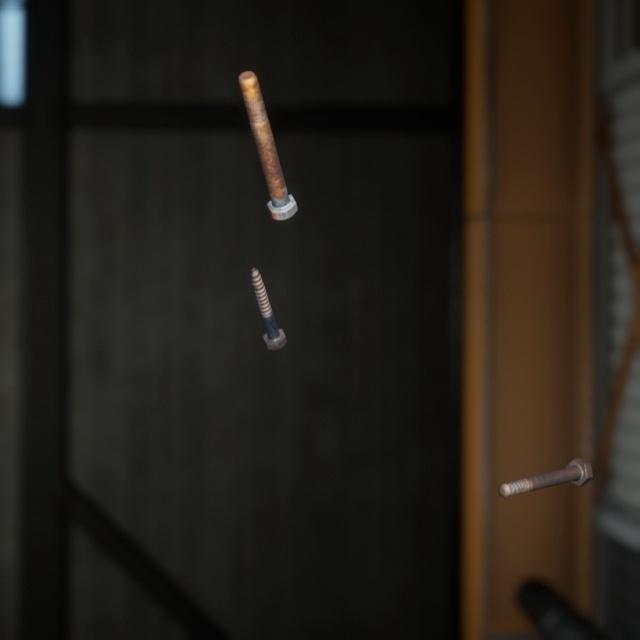bolt: (234, 52, 302, 211), (493, 432, 597, 480), (246, 244, 291, 336)
